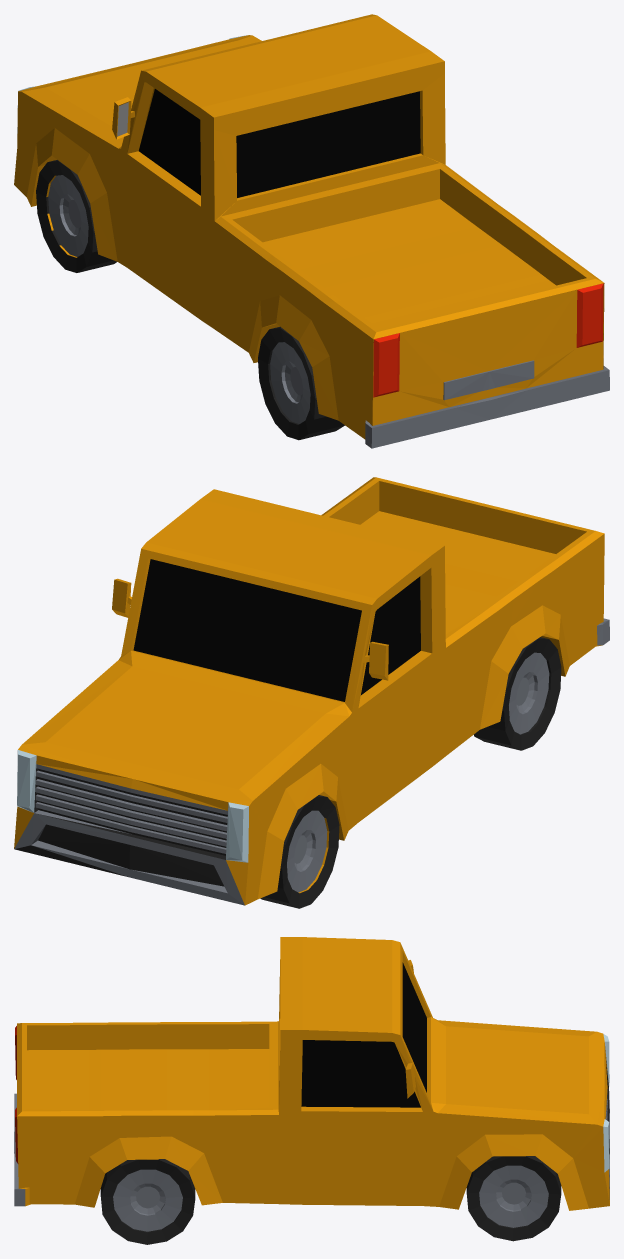
Rendered from truckmodel4.fbx.
The picture shows the model from 3 angles, top to bottom: view 1: azimuth 30°, elevation 25°; view 2: azimuth 150°, elevation 25°; view 3: azimuth 270°, elevation 25°; orthographic projection. The views are drawn at different scales.
Visible parts, largest first — view 1: Truckmodel; view 2: Truckmodel; view 3: Truckmodel.
Boxes of the visible parts, x1,y1,x2,y2 form: Truckmodel: (14,14,609,448); Truckmodel: (14,477,609,908); Truckmodel: (14,937,609,1244).
Bounding box in the file's own units: 97.15 × 87.78 × 223.
